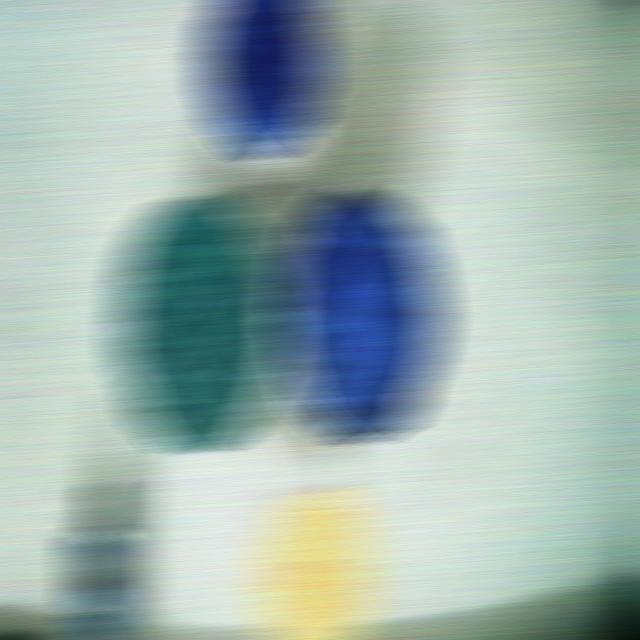blue: (278, 185, 443, 445), (200, 0, 325, 159)
green: (115, 192, 286, 454)
yellow: (253, 484, 378, 639)
